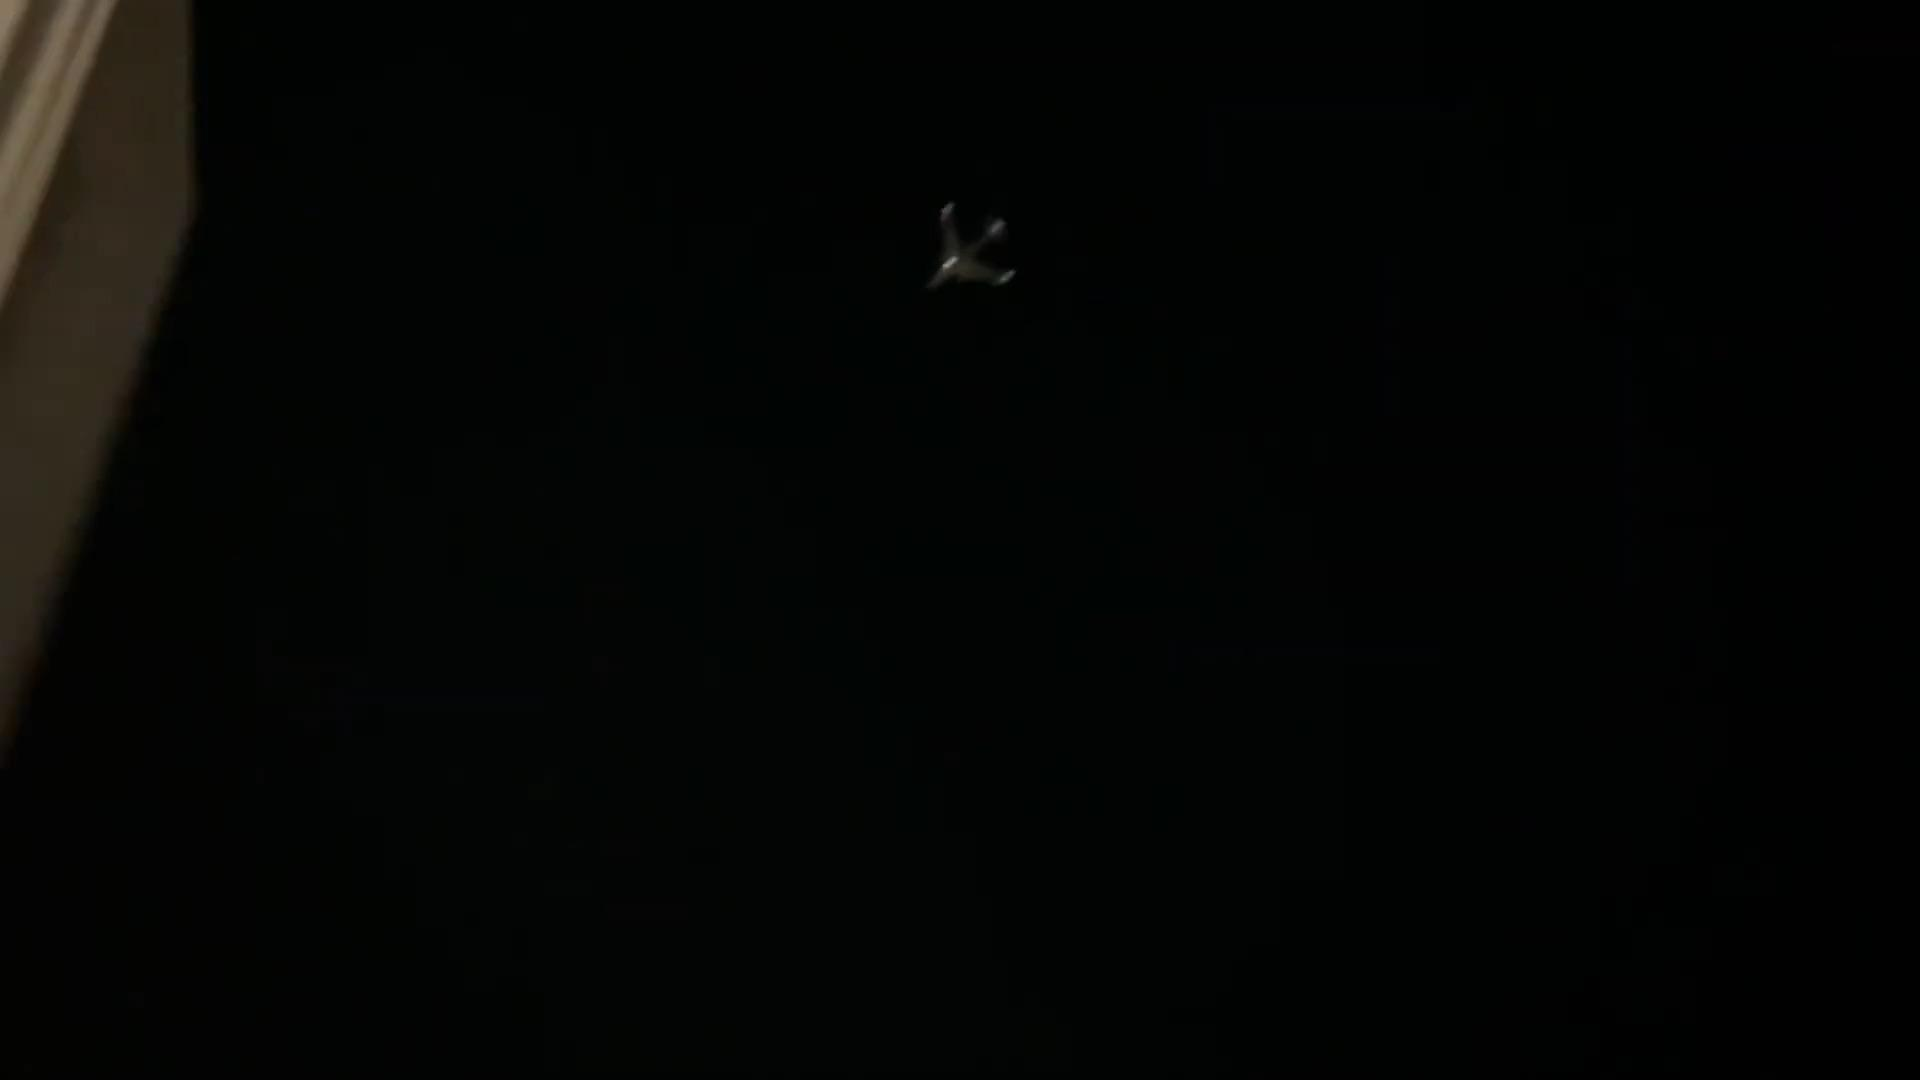Plane: (829, 171, 1116, 326)
